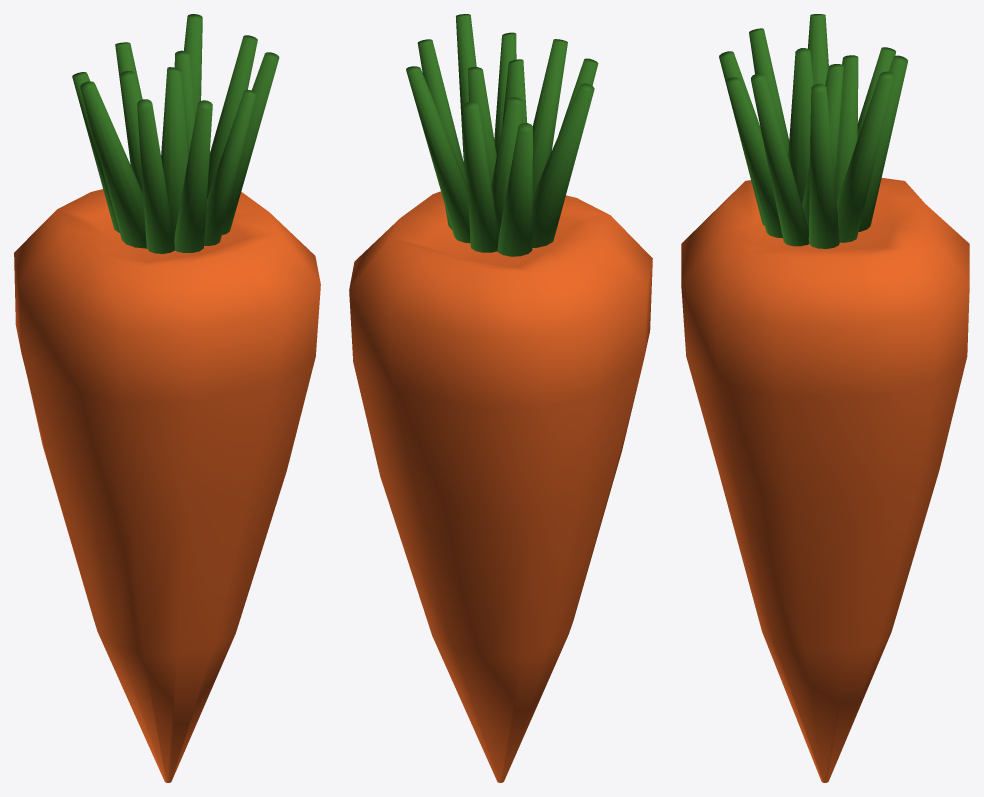
The model's file is Carrot.fbx.
3 renders of one model, left to right at view 1: azimuth 30°, elevation 25°; view 2: azimuth 150°, elevation 25°; view 3: azimuth 270°, elevation 25°, orthographic.
Visible parts, largest first — view 1: Carrot; view 2: Carrot; view 3: Carrot.
Boxes of the visible parts, <box> form: Carrot: <box>14,14,320,782</box>; Carrot: <box>349,14,652,782</box>; Carrot: <box>681,14,969,782</box>.
Size of the model in its own units: 93.7 by 265 by 93.65.
